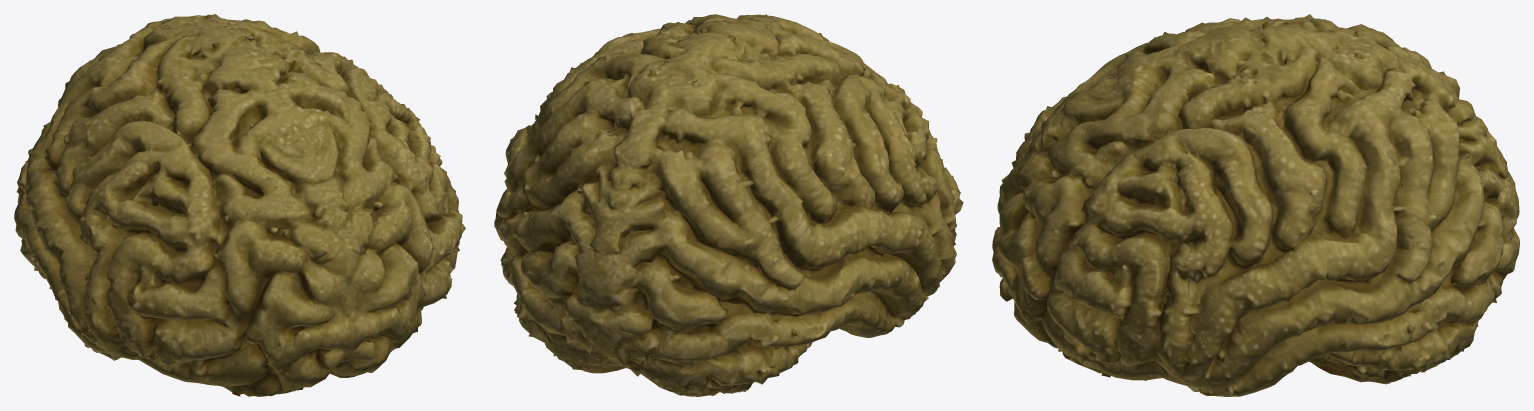
File: coral_brain.glb
The picture shows the model from 3 angles, left to right: view 1: azimuth 30°, elevation 25°; view 2: azimuth 150°, elevation 25°; view 3: azimuth 270°, elevation 25°; orthographic projection. The views are drawn at different scales.
Visible parts, largest first — view 1: tripo_node_f8003d9b-a6fe-484e-9f26-e7c6a37e4aee; view 2: tripo_node_f8003d9b-a6fe-484e-9f26-e7c6a37e4aee; view 3: tripo_node_f8003d9b-a6fe-484e-9f26-e7c6a37e4aee.
Part boxes in pixels (x1,y1,x2,y2): tripo_node_f8003d9b-a6fe-484e-9f26-e7c6a37e4aee: (14,14,465,396); tripo_node_f8003d9b-a6fe-484e-9f26-e7c6a37e4aee: (494,14,963,396); tripo_node_f8003d9b-a6fe-484e-9f26-e7c6a37e4aee: (992,14,1519,396).
Bounding box in the file's own units: 0.9048 × 0.6566 × 1.
1 material, 1 textured.
